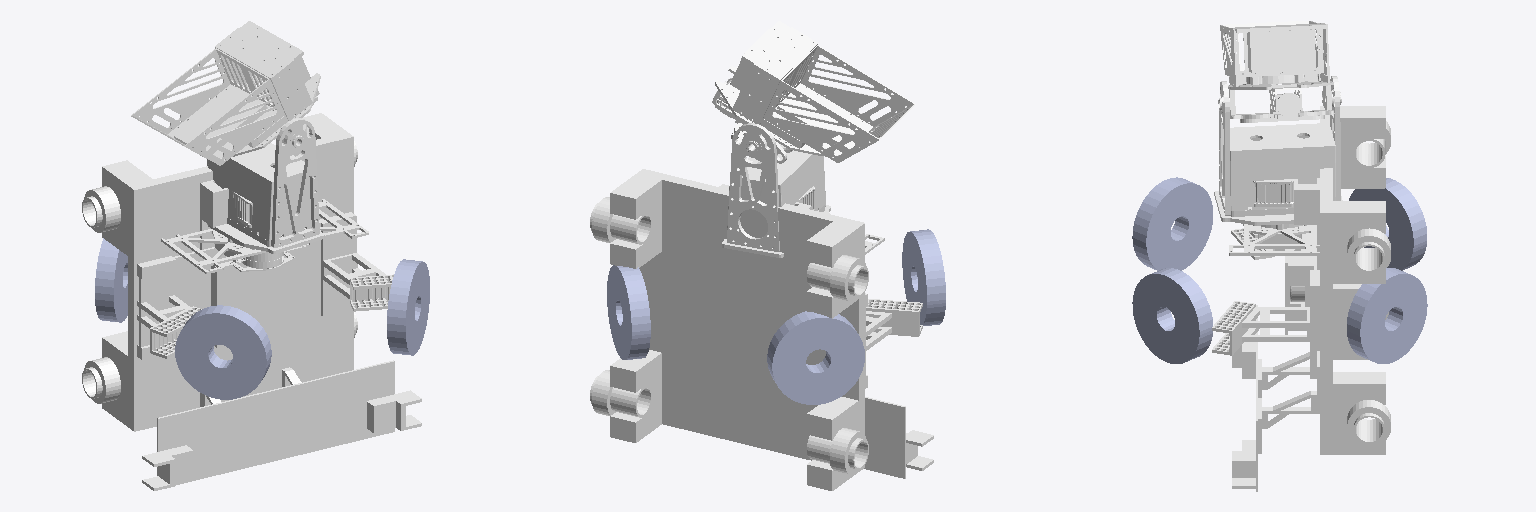
URDF robot description (urdf_v5):
<?xml version="1.0" encoding="utf-8"?>
<!-- This URDF was automatically created by SolidWorks to URDF Exporter! Originally created by Stephen Brawner (brawner@gmail.com) 
     Commit Version: 1.6.0-4-g7f85cfe  Build Version: 1.6.7995.38578
     For more information, please see http://wiki.ros.org/sw_urdf_exporter -->
<robot
  name="urdf_v5">
  <link
    name="base_link">
    <inertial>
      <origin
        xyz="0.00332576617239533 0.000338299096548381 0.016292511278978"
        rpy="0 0 0" />
      <mass
        value="1.76383778742641" />
      <inertia
        ixx="0.00482252709333626"
        ixy="4.979211345609E-06"
        ixz="4.30164694385565E-14"
        iyy="0.00236335725347059"
        iyz="-4.36088020352683E-14"
        izz="0.00668984934486886" />
    </inertial>
    <visual>
      <origin
        xyz="0 0 0"
        rpy="0 0 0" />
      <geometry>
        <mesh
          filename="package://urdf_v5/meshes/base_link.STL" />
      </geometry>
      <material
        name="">
        <color
          rgba="1 1 1 1" />
      </material>
    </visual>
    <collision>
      <origin
        xyz="0 0 0"
        rpy="0 0 0" />
      <geometry>
        <mesh
          filename="package://urdf_v5/meshes/base_link.STL" />
      </geometry>
    </collision>
  </link>
  <link
    name="w 0">
    <inertial>
      <origin
        xyz="-0.00777817459305208 0.00777817459305172 -6.48786580015326E-16"
        rpy="0 0 0" />
      <mass
        value="0.464547305686323" />
      <inertia
        ixx="0.00101544234181709"
        ixy="-0.000315253415321381"
        ixz="4.7686962313682E-21"
        iyy="0.00101544234181709"
        iyz="-8.95753885333674E-21"
        izz="0.00070018892649571" />
    </inertial>
    <visual>
      <origin
        xyz="0 0 0"
        rpy="0 0 0" />
      <geometry>
        <mesh
          filename="package://urdf_v5/meshes/w 0.STL" />
      </geometry>
      <material
        name="">
        <color
          rgba="0.792156862745098 0.819607843137255 0.933333333333333 1" />
      </material>
    </visual>
    <collision>
      <origin
        xyz="0 0 0"
        rpy="0 0 0" />
      <geometry>
        <mesh
          filename="package://urdf_v5/meshes/w 0.STL" />
      </geometry>
    </collision>
  </link>
  <joint
    name="wojoint"
    type="continuous">
    <origin
      xyz="0.172060894977629 -0.172060894977632 0.00364575766833166"
      rpy="0 0 0" />
    <parent
      link="base_link" />
    <child
      link="w 0" />
    <axis
      xyz="0.707106781186545 -0.70710678118655 0" />
  </joint>
  <link
    name="w 1">
    <inertial>
      <origin
        xyz="-0.00777817459305163 -0.00777817459305227 -6.6266436782314E-16"
        rpy="0 0 0" />
      <mass
        value="0.464547305686322" />
      <inertia
        ixx="0.00101544234181709"
        ixy="0.00031525341532138"
        ixz="3.26893506274833E-20"
        iyy="0.00101544234181709"
        iyz="2.59693353311023E-20"
        izz="0.000700188926495709" />
    </inertial>
    <visual>
      <origin
        xyz="0 0 0"
        rpy="0 0 0" />
      <geometry>
        <mesh
          filename="package://urdf_v5/meshes/w 1.STL" />
      </geometry>
      <material
        name="">
        <color
          rgba="0.792156862745098 0.819607843137255 0.933333333333333 1" />
      </material>
    </visual>
    <collision>
      <origin
        xyz="0 0 0"
        rpy="0 0 0" />
      <geometry>
        <mesh
          filename="package://urdf_v5/meshes/w 1.STL" />
      </geometry>
    </collision>
  </link>
  <joint
    name="w1joint"
    type="continuous">
    <origin
      xyz="0.172060894977632 0.172060894977629 0.00364575766833166"
      rpy="0 0 0" />
    <parent
      link="base_link" />
    <child
      link="w 1" />
    <axis
      xyz="0.707106781186547 0.707106781186548 0" />
  </joint>
  <link
    name="w 2">
    <inertial>
      <origin
        xyz="0.00777817459305252 -0.00777817459305177 -6.48786580015326E-16"
        rpy="0 0 0" />
      <mass
        value="0.464547305686322" />
      <inertia
        ixx="0.00101544234181709"
        ixy="-0.00031525341532138"
        ixz="-1.02835093752593E-20"
        iyy="0.00101544234181709"
        iyz="4.48331892003739E-22"
        izz="0.000700188926495709" />
    </inertial>
    <visual>
      <origin
        xyz="0 0 0"
        rpy="0 0 0" />
      <geometry>
        <mesh
          filename="package://urdf_v5/meshes/w 2.STL" />
      </geometry>
      <material
        name="">
        <color
          rgba="0.792156862745098 0.819607843137255 0.933333333333333 1" />
      </material>
    </visual>
    <collision>
      <origin
        xyz="0 0 0"
        rpy="0 0 0" />
      <geometry>
        <mesh
          filename="package://urdf_v5/meshes/w 2.STL" />
      </geometry>
    </collision>
  </link>
  <joint
    name="w2joint"
    type="continuous">
    <origin
      xyz="-0.17206089497763 0.172060894977632 0.00364575766833366"
      rpy="0 0 0" />
    <parent
      link="base_link" />
    <child
      link="w 2" />
    <axis
      xyz="-0.70710678118655 0.707106781186545 0" />
  </joint>
  <link
    name="w 3">
    <inertial>
      <origin
        xyz="0.00777817459305152 0.00777817459305251 -6.86950496486816E-16"
        rpy="0 0 0" />
      <mass
        value="0.464547305686322" />
      <inertia
        ixx="0.00101544234181709"
        ixy="0.000315253415321381"
        ixz="3.29168252959351E-20"
        iyy="0.0010154423418171"
        iyz="-3.14973833647942E-20"
        izz="0.000700188926495709" />
    </inertial>
    <visual>
      <origin
        xyz="0 0 0"
        rpy="0 0 0" />
      <geometry>
        <mesh
          filename="package://urdf_v5/meshes/w 3.STL" />
      </geometry>
      <material
        name="">
        <color
          rgba="0.792156862745098 0.819607843137255 0.933333333333333 1" />
      </material>
    </visual>
    <collision>
      <origin
        xyz="0 0 0"
        rpy="0 0 0" />
      <geometry>
        <mesh
          filename="package://urdf_v5/meshes/w 3.STL" />
      </geometry>
    </collision>
  </link>
  <joint
    name="w3joint"
    type="continuous">
    <origin
      xyz="-0.172060894977631 -0.17206089497763 0.00364575766833166"
      rpy="0 0 0" />
    <parent
      link="base_link" />
    <child
      link="w 3" />
    <axis
      xyz="-0.707106781186542 -0.707106781186553 0" />
  </joint>
  <link
    name="yaw">
    <inertial>
      <origin
        xyz="-0.000104829761399028 0.000589227103042572 0.140842550671345"
        rpy="0 0 0" />
      <mass
        value="0.883658426613258" />
      <inertia
        ixx="0.00213024726017061"
        ixy="5.73528912951601E-05"
        ixz="-2.42952454253992E-06"
        iyy="0.00206248069839823"
        iyz="-2.22795485506688E-05"
        izz="0.00270809171358489" />
    </inertial>
    <visual>
      <origin
        xyz="0 0 0"
        rpy="0 0 0" />
      <geometry>
        <mesh
          filename="package://urdf_v5/meshes/yaw.STL" />
      </geometry>
      <material
        name="">
        <color
          rgba="1 1 1 1" />
      </material>
    </visual>
    <collision>
      <origin
        xyz="0 0 0"
        rpy="0 0 0" />
      <geometry>
        <mesh
          filename="package://urdf_v5/meshes/yaw.STL" />
      </geometry>
    </collision>
  </link>
  <joint
    name="yawjoint"
    type="continuous">
    <origin
      xyz="0 0 0"
      rpy="0 0 0" />
    <parent
      link="base_link" />
    <child
      link="yaw" />
    <axis
      xyz="0 0 -1" />
  </joint>
  <link
    name="ph">
    <inertial>
      <origin
        xyz="-0.0096505322715873 0.00102702125391747 0.048172682863894"
        rpy="0 0 0" />
      <mass
        value="0.90065945763592" />
      <inertia
        ixx="0.00107450925105923"
        ixy="-3.76418436284026E-07"
        ixz="-0.000214486770726335"
        iyy="0.000927972485119108"
        iyz="-1.67879377110663E-07"
        izz="0.0015213979001916" />
    </inertial>
    <visual>
      <origin
        xyz="0 0 0"
        rpy="0 0 0" />
      <geometry>
        <mesh
          filename="package://urdf_v5/meshes/ph.STL" />
      </geometry>
      <material
        name="">
        <color
          rgba="1 1 1 1" />
      </material>
    </visual>
    <collision>
      <origin
        xyz="0 0 0"
        rpy="0 0 0" />
      <geometry>
        <mesh
          filename="package://urdf_v5/meshes/ph.STL" />
      </geometry>
    </collision>
  </link>
  <joint
    name="phjo"
    type="revolute">
    <origin
      xyz="0 0 0.291"
      rpy="0 0 0.11442" />
    <parent
      link="yaw" />
    <child
      link="ph" />
    <axis
      xyz="0 -1 0" />
    <limit
      lower="0"
      upper="0"
      effort="0"
      velocity="0" />
  </joint>
</robot>

--- Facts derived from the render (not from the file) ---
Views: 3 orthographic renders of the robot side by side, from view 1: azimuth 30°, elevation 25°; view 2: azimuth 150°, elevation 25°; view 3: azimuth 270°, elevation 25°.
Model urdf_v5 with 7 links and 6 joints (1 revolute, 5 continuous), rooted at base_link, posed all joints at 0.
Links seen in each view (by area): view 1: base_link, ph, yaw, w 3, w 0, w 2; view 2: base_link, ph, yaw, w 2, w 1, w 3; view 3: base_link, yaw, ph, w 0, w 3, w 1, w 2.
Boxes of the visible links, x1,y1,x2,y2 form: base_link: [82, 113, 421, 490]; ph: [131, 21, 320, 165]; yaw: [161, 90, 368, 273]; w 3: [175, 305, 271, 399]; w 0: [387, 259, 429, 355]; w 2: [95, 238, 127, 322]; base_link: [590, 169, 933, 490]; ph: [712, 21, 915, 163]; yaw: [722, 88, 884, 257]; w 2: [767, 311, 864, 404]; w 1: [607, 265, 650, 359]; w 3: [902, 229, 945, 325]; base_link: [1212, 106, 1390, 491]; yaw: [1214, 76, 1342, 255]; ph: [1218, 21, 1341, 122]; w 0: [1132, 268, 1212, 363]; w 3: [1132, 177, 1212, 270]; w 1: [1347, 268, 1427, 363]; w 2: [1349, 178, 1426, 270].
Bounding box of the posed robot: 0.476 × 0.453 × 0.6995 m (x, y, z).
Meshes: 7 distinct files referenced, 7 mesh visuals loaded (7 binary STL).
